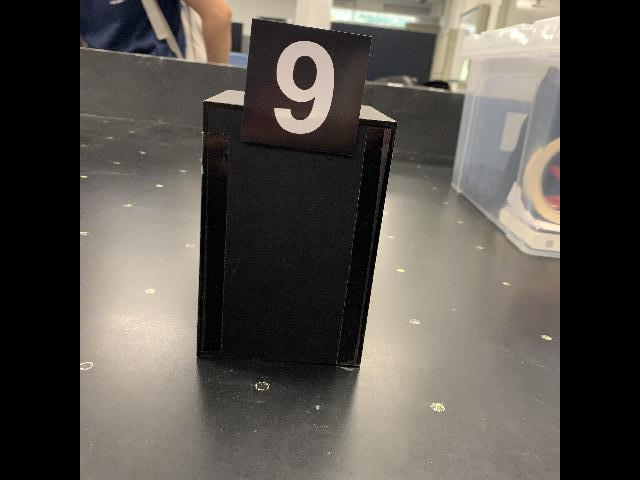nine: (239, 15, 374, 164)
